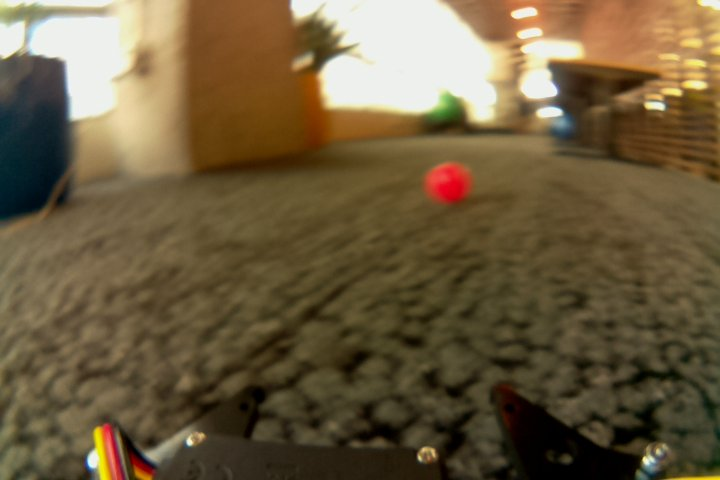ball: (552, 115, 574, 140)
